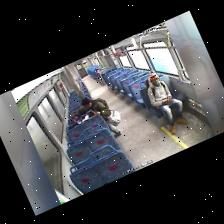person: (176, 40, 223, 133), (147, 73, 186, 134), (74, 97, 120, 135)
